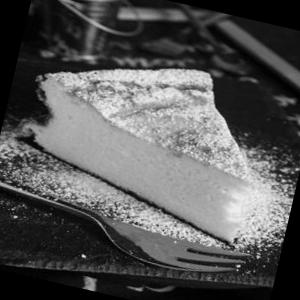omelet: (3, 29, 300, 265)
